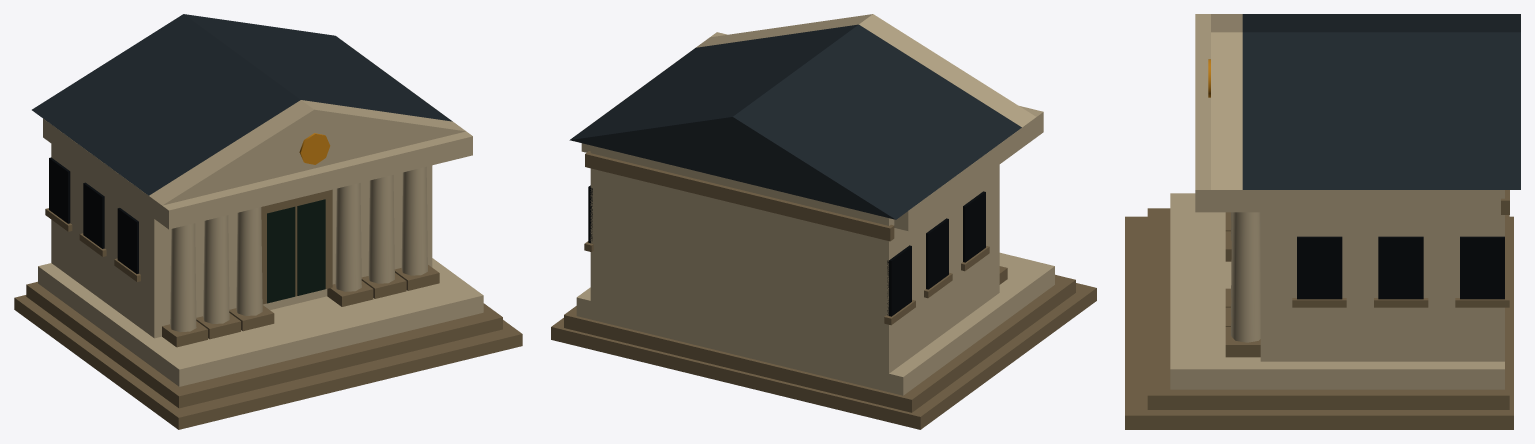
Rendered from low-poly-bank.obj.
3 views of the same model, side by side, from view 1: azimuth 30°, elevation 25°; view 2: azimuth 150°, elevation 25°; view 3: azimuth 270°, elevation 25° (orthographic). The views are drawn at different scales.
Visible parts, largest first — view 1: roof, plinth, body, pediment, step1, step2, entablature, column1, column2, column4, column5, column3 (+14 smaller); view 2: body, roof, plinth, step1, step2, backCornice, pediment, entablature, windowL1, windowL2, windowL3; view 3: roof, body, plinth, step1, step2, entablature, pediment, column6, windowR2, windowR3, windowR1, colbase6 (+3 smaller).
Part boxes in pixels (bbox=[...]): roof: bbox=[32, 14, 452, 195]; plinth: bbox=[38, 258, 483, 386]; body: bbox=[51, 144, 432, 338]; pediment: bbox=[149, 100, 465, 205]; step1: bbox=[14, 295, 522, 429]; step2: bbox=[26, 281, 502, 408]; entablature: bbox=[43, 118, 472, 229]; column1: bbox=[170, 223, 196, 332]; column2: bbox=[203, 215, 229, 323]; column4: bbox=[335, 183, 361, 291]; column5: bbox=[368, 175, 394, 283]; column3: bbox=[236, 207, 262, 315]; body: bbox=[590, 145, 999, 373]; roof: bbox=[569, 24, 1021, 219]; plinth: bbox=[576, 252, 1054, 395]; step1: bbox=[551, 283, 1096, 429]; step2: bbox=[564, 274, 1075, 412]; backCornice: bbox=[585, 151, 894, 241]; pediment: bbox=[696, 14, 1035, 127]; entablature: bbox=[581, 32, 1043, 231]; windowL1: bbox=[887, 245, 911, 316]; windowL2: bbox=[926, 218, 948, 289]; windowL3: bbox=[963, 191, 985, 262]; roof: bbox=[1242, 14, 1520, 189]; body: bbox=[1260, 190, 1504, 361]; plinth: bbox=[1170, 193, 1504, 389]; step1: bbox=[1125, 216, 1513, 429]; step2: bbox=[1147, 208, 1509, 409]; entablature: bbox=[1195, 14, 1493, 212]; pediment: bbox=[1211, 14, 1242, 189]; column6: bbox=[1231, 212, 1260, 342]; windowR2: bbox=[1378, 236, 1423, 299]; windowR3: bbox=[1297, 236, 1342, 299]; windowR1: bbox=[1460, 236, 1504, 299]; colbase6: bbox=[1225, 327, 1260, 357].
Bounding box in the file's own units: 10.4 × 7.28 × 8.75.
